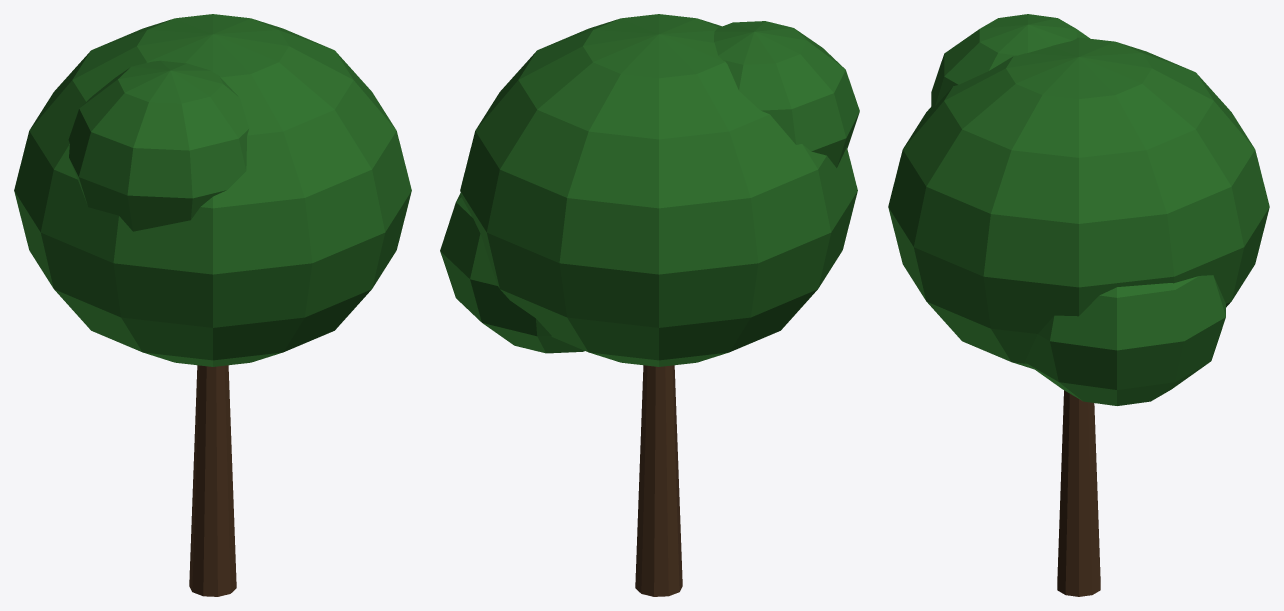
File: Arbol.obj
3 renders of one model, left to right at view 1: azimuth 30°, elevation 25°; view 2: azimuth 150°, elevation 25°; view 3: azimuth 270°, elevation 25°, orthographic. The views are drawn at different scales.
Parts seen in each view (by area): view 1: Arbol; view 2: Arbol; view 3: Arbol.
Boxes of the visible parts, x1,y1,x2,y2 form: Arbol: (14,14,411,596); Arbol: (440,14,859,596); Arbol: (888,14,1269,596).
Bounding box in the file's own units: 3.1 × 4.6 × 3.
